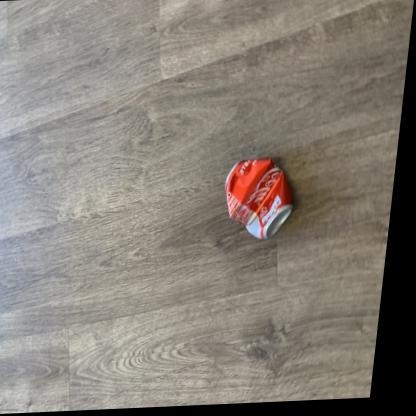trash: (225, 159, 292, 239)
